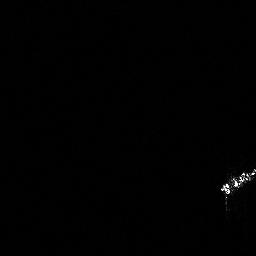ship: (217, 166, 256, 201)
